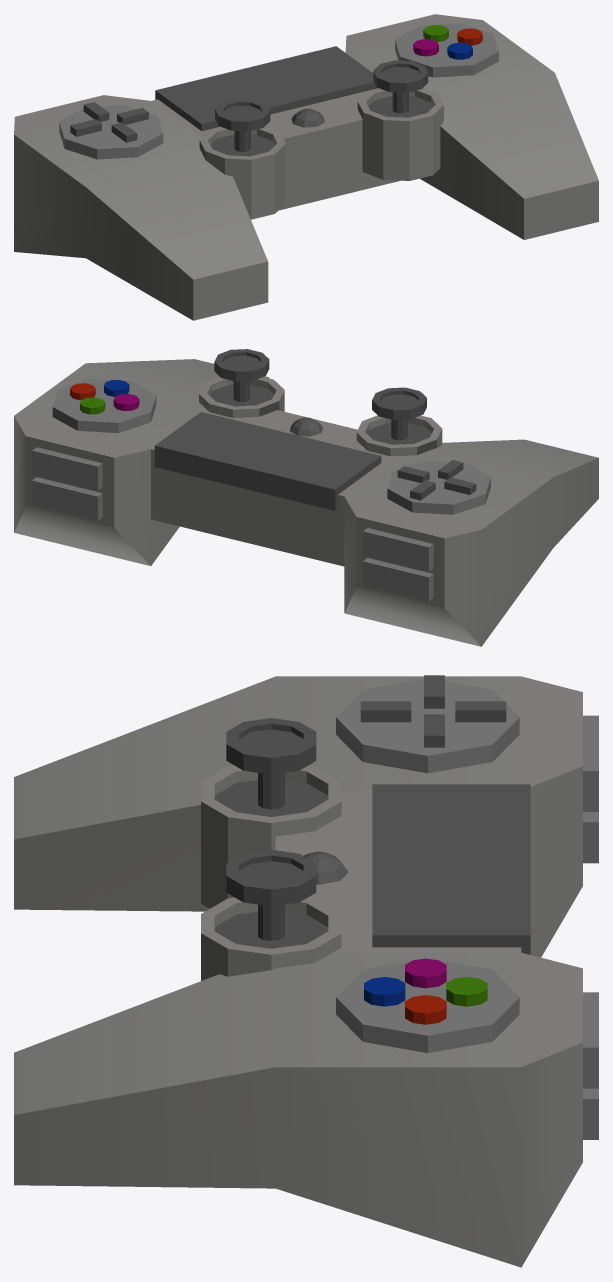
File: SM_Mando.fbx
The picture shows the model from 3 angles, top to bottom: view 1: azimuth 30°, elevation 25°; view 2: azimuth 150°, elevation 25°; view 3: azimuth 270°, elevation 25°; orthographic projection. The views are drawn at different scales.
Visible parts, largest first — view 1: pCube1, pasted__pCube1, pCube2, pasted__pCylinder1, pCylinder1, pCylinder2, pasted__pCylinder2, pasted__pCube4, pSphere1; view 2: pCube1, pasted__pCube1, pCube2, pasted__pCylinder1, pCylinder1, pasted__pCube3 (×2), pCylinder2, pasted__pCylinder2, pCube3, pasted__pasted__pCube3, pasted__pCube4, pSphere1; view 3: pasted__pCube1, pCube1, pCube2, pCylinder1, pasted__pCylinder1, pCylinder2, pasted__pCylinder2, pasted__pCube4, pasted__pCube3 (×2), pCube3, polySurface3, polySurface1 (+4 smaller).
Boxes of the visible parts, left/top/right/bottom form: pCube1: left=14, top=88, right=400, bottom=320; pasted__pCube1: left=345, top=14, right=598, bottom=239; pCube2: left=155, top=46, right=378, bottom=130; pasted__pCylinder1: left=357, top=60, right=443, bottom=180; pCylinder1: left=199, top=99, right=285, bottom=219; pCylinder2: left=59, top=105, right=163, bottom=159; pasted__pCylinder2: left=395, top=23, right=498, bottom=77; pasted__pCube4: left=70, top=102, right=148, bottom=142; pSphere1: left=291, top=108, right=324, bottom=127; pCube1: left=151, top=409, right=598, bottom=646; pasted__pCube1: left=14, top=359, right=269, bottom=565; pCube2: left=154, top=412, right=381, bottom=510; pasted__pCylinder1: left=199, top=349, right=284, bottom=417; pCylinder1: left=356, top=387, right=442, bottom=456; pasted__pCube3 (×2): left=32, top=477, right=433, bottom=571; pCylinder2: left=387, top=461, right=490, bottom=514; pasted__pCylinder2: left=52, top=379, right=156, bottom=432; pCube3: left=32, top=447, right=102, bottom=490; pasted__pasted__pCube3: left=363, top=558, right=433, bottom=601; pasted__pCube4: left=397, top=460, right=476, bottom=500; pSphere1: left=290, top=417, right=322, bottom=436; pasted__pCube1: left=14, top=952, right=582, bottom=1267; pCube1: left=14, top=676, right=582, bottom=957; pCube2: left=372, top=784, right=530, bottom=954; pCylinder1: left=201, top=718, right=341, bottom=908; pasted__pCylinder1: left=201, top=849, right=341, bottom=980; pCylinder2: left=336, top=679, right=519, bottom=773; pasted__pCylinder2: left=336, top=958, right=519, bottom=1052; pasted__pCube4: left=360, top=675, right=506, bottom=747; pasted__pCube3 (×2): left=583, top=715, right=598, bottom=1139; pCube3: left=583, top=992, right=598, bottom=1088; polySurface3: left=405, top=995, right=446, bottom=1024; polySurface1: left=446, top=977, right=487, bottom=1006.
Size of the model in its own units: 9.08 by 2.91 by 5.74.
